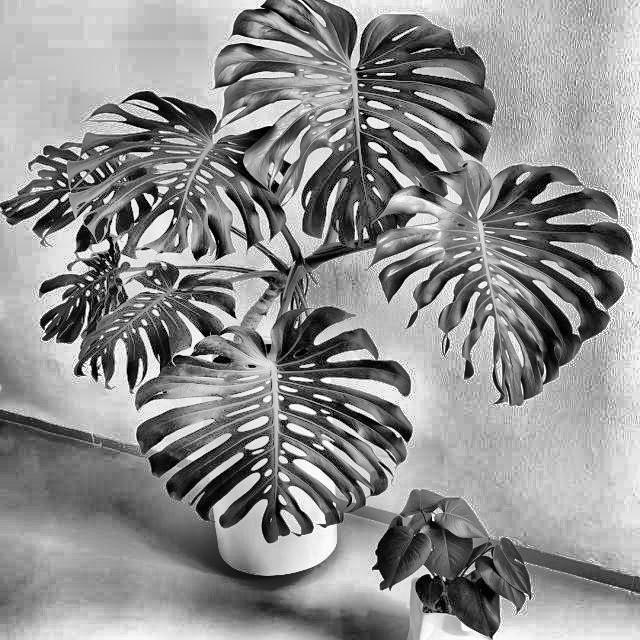plants: (21, 4, 634, 462), (372, 492, 541, 640)
